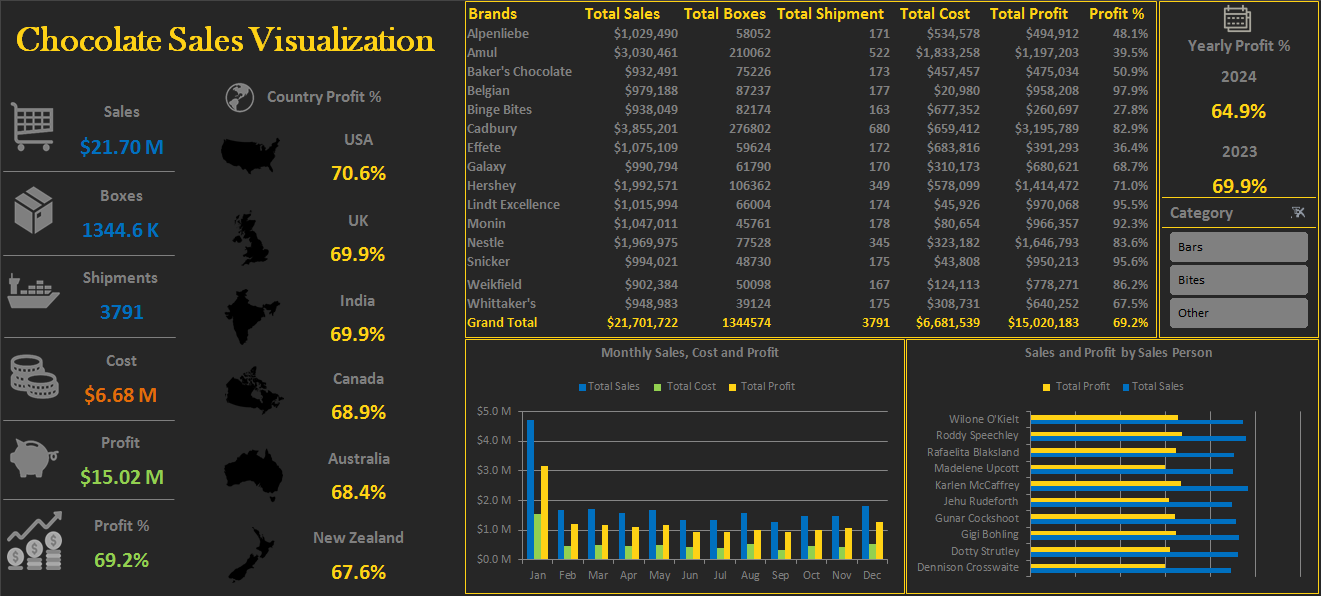

What the dashboard file says about the page in this screenshot:
{"tool":"powerbi","page":{"name":"Chocolate Sales Visualization","canvas":[3300,1800],"ordinal":0},"visuals":[{"type":"shape","box":[2847.2,4,441.4,556.7],"z":0},{"type":"card","title":"Sales","fields":{"Values":["Products.Total Sales"]},"box":[119.3,397.7,385.7,230.6],"z":0,"group":"g7"},{"type":"group","id":"g1","title":"Group 1","box":[655.3,404,445.4,167],"z":0,"group":"g8"},{"type":"textbox","box":[8,67.6,1109.5,147.1],"z":1000},{"type":"group","id":"g2","title":"Group 2","box":[647.6,627,449.3,186.9],"z":1000,"group":"g8"},{"type":"card","title":"Boxes","fields":{"Values":["Sum(Sales.Boxes)"]},"box":[119.3,632.3,385.7,230.6],"z":1000,"group":"g7"},{"type":"shape","box":[8,4,1109.5,286.3],"z":2000},{"type":"card","title":"Shipments","fields":{"Values":["Products.Total Shipment"]},"box":[119.3,866.9,385.7,230.6],"z":2000,"group":"g7"},{"type":"group","id":"g3","title":"Group 3","box":[645,870,445.4,182.9],"z":2000,"group":"g8"},{"type":"tableEx","fields":{"Values":["Products.Brands","Products.Total Sales","Products.Tota Boxes","Products.Total Shipment","Products.Total Cost","Products.Total Profit","Products.Profit %"]},"box":[1121.4,4,1717.9,878.8],"z":3000},{"type":"card","title":"Cost","fields":{"Values":["Products.Total Cost"]},"box":[119.3,1101.5,385.7,226.7],"z":3000,"group":"g7"},{"type":"group","id":"g4","title":"Group 4","box":[643.8,1108.9,445.4,182.9],"z":3000,"group":"g8"},{"type":"actionButton","box":[0,0,100,40],"z":4000},{"type":"card","title":"Profit","fields":{"Values":["Products.Total Profit"]},"box":[119.3,1336.2,385.7,226.7],"z":4000,"group":"g7"},{"type":"group","id":"g5","title":"Group 5","box":[642,1347.9,445.4,175],"z":4000,"group":"g8"},{"type":"clusteredColumnChart","title":"Monthly Sales, Cost and Profit","fields":{"Category":["Sales.Date.Variation.Date Hierarchy.Month"],"Y":["Products.Total Sales","Products.Total Cost","Products.Total Profit"]},"box":[1121.4,886.8,1137.3,906.6],"z":5000},{"type":"card","title":"Profit %","fields":{"Values":["Products.Profit %"]},"box":[119.3,1570.8,385.7,226.7],"z":5000,"group":"g7"},{"type":"group","id":"g6","title":"Group 6","box":[639.2,1578.9,445.4,186.9],"z":5000,"group":"g8"},{"type":"image","box":[0,413.6,206.8,143.2],"z":6000,"group":"g7"},{"type":"image","box":[537.7,416.6,206.8,143.2],"z":6000,"group":"g8"},{"type":"clusteredBarChart","title":"Sales and Profit by Sales Person","fields":{"Category":["Sales.Sales Person"],"Y":["Products.Total Profit","Products.Total Sales"]},"box":[2262.6,886.8,1029.9,906.6],"z":6000},{"type":"slicer","title":"Monthly Sales, Cost and Profit","fields":{"Values":["Products.Category"]},"box":[2843.2,564.7,449.3,318.1],"z":7000},{"type":"image","box":[8,644.2,206.8,143.2],"z":7000,"group":"g7"},{"type":"image","box":[537.7,647.3,206.8,143.2],"z":7000,"group":"g8"},{"type":"textbox","title":"Yearly Profit %","box":[2847.2,87.5,445.4,103.4],"z":8000,"group":"g12"},{"type":"image","box":[545.7,885.8,206.8,143.2],"z":8000,"group":"g8"},{"type":"image","box":[11.9,886.8,206.8,143.2],"z":8000,"group":"g7"},{"type":"textbox","title":"2024","box":[2840.4,185.1,448.2,63.3],"z":9000,"group":"g11"},{"type":"image","box":[8,1125.4,206.8,143.2],"z":9000,"group":"g7"},{"type":"image","box":[537.7,1128.4,206.8,143.2],"z":9000,"group":"g8"},{"type":"textbox","title":"2023","box":[2840.4,380,448.2,63.3],"z":10000,"group":"g10"},{"type":"image","box":[537.7,1339.2,206.8,143.2],"z":10000,"group":"g8"},{"type":"image","box":[0,1360,206.8,143.2],"z":10000,"group":"g7"},{"type":"card","fields":{"Values":["Products.Profit %"]},"box":[2913.5,433.6,302.1,121.8],"z":11000,"group":"g10"},{"type":"image","box":[0,1598.6,206.8,143.2],"z":11000,"group":"g7"},{"type":"image","box":[537.7,1601.6,206.8,143.2],"z":11000,"group":"g8"},{"type":"card","fields":{"Values":["Products.Profit %"]},"box":[2913.5,233.8,302.1,121.8],"z":12000,"group":"g11"},{"type":"shape","box":[0,518.4,477.2,171],"z":12000,"group":"g7"},{"type":"textbox","title":"Country Profit %","box":[707.8,286.3,405.6,103.4],"z":13000,"group":"g9"},{"type":"shape","box":[0,764.9,477.2,151.1],"z":13000,"group":"g7"},{"type":"group","id":"g7","title":"Group 7","box":[0,397.7,505,1399.7],"z":14000},{"type":"shape","box":[0,1003.5,477.2,151.1],"z":14000,"group":"g7"},{"type":"group","id":"g8","title":"Group 8","box":[537.7,404,563,1361.8],"z":15000},{"type":"shape","box":[0,1242.1,477.2,151.1],"z":15000,"group":"g7"},{"type":"image","box":[544.8,286.3,175,103.4],"z":15001,"group":"g9"},{"type":"group","id":"g9","title":"Group 9","box":[544.8,286.3,568.6,103.4],"z":15002},{"type":"image","box":[2986.4,0,163,123.3],"z":15003,"group":"g12"},{"type":"group","id":"g10","title":"Group 10","box":[2840.4,380,448.2,175.4],"z":15004,"group":"g13"},{"type":"group","id":"g11","title":"Group 11","box":[2840.4,185.1,448.2,170.5],"z":15005,"group":"g13"},{"type":"group","id":"g12","title":"Group 12","box":[2847.2,0,445.4,190.9],"z":15006,"group":"g13"},{"type":"group","id":"g13","title":"Group 13","box":[2840.4,0,452.1,555.4],"z":15007},{"type":"shape","box":[0,1472.7,477.2,151.1],"z":16000,"group":"g7"},{"type":"textbox","title":"USA","box":[655.3,404,445.4,63.6],"z":19001,"group":"g1"},{"type":"textbox","title":"India","box":[645,870,445.4,63.6],"z":19002,"group":"g3"},{"type":"textbox","title":"UK","box":[647.6,627,449.3,63.6],"z":19003,"group":"g2"},{"type":"textbox","title":"Canada","box":[643.8,1108.9,445.4,63.6],"z":19004,"group":"g4"},{"type":"textbox","title":"Australia","box":[642,1347.9,445.4,63.6],"z":19005,"group":"g5"},{"type":"textbox","title":"New Zealand","box":[639.2,1578.9,445.4,63.6],"z":19006,"group":"g6"},{"type":"card","fields":{"Values":["Products.Profit %"]},"box":[711,447.7,302.2,123.3],"z":19007,"group":"g1"},{"type":"card","fields":{"Values":["Products.Profit %"]},"box":[711.2,694.6,302.2,119.3],"z":19008,"group":"g2"},{"type":"card","fields":{"Values":["Products.Profit %"]},"box":[716.6,933.6,302.2,119.3],"z":19009,"group":"g3"},{"type":"card","fields":{"Values":["Products.Profit %"]},"box":[715.4,1172.5,302.2,119.3],"z":19010,"group":"g4"},{"type":"card","fields":{"Values":["Products.Profit %"]},"box":[713.6,1399.6,302.2,123.3],"z":19011,"group":"g5"},{"type":"card","fields":{"Values":["Products.Profit %"]},"box":[710.8,1642.5,302.2,123.3],"z":19012,"group":"g6"}]}

Visuals, with their boxes on the page's 3300x1800 design canvas (x1, y1, x2, y2). These are canvas units, not pixel positions in the 1321x596 screenshot, which may show the page scaled, cropped or inside an application window:
shape: box(2847, 4, 3289, 561)
"Sales" card: box(119, 398, 505, 628)
"Group 1" group: box(655, 404, 1101, 571)
textbox: box(8, 68, 1118, 215)
"Group 2" group: box(648, 627, 1097, 814)
"Boxes" card: box(119, 632, 505, 863)
shape: box(8, 4, 1118, 290)
"Shipments" card: box(119, 867, 505, 1098)
"Group 3" group: box(645, 870, 1090, 1053)
tableEx - Products.Brands x Products.Total Sales: box(1121, 4, 2839, 883)
"Cost" card: box(119, 1102, 505, 1328)
"Group 4" group: box(644, 1109, 1089, 1292)
actionButton: box(0, 0, 100, 40)
"Profit" card: box(119, 1336, 505, 1563)
"Group 5" group: box(642, 1348, 1087, 1523)
"Monthly Sales, Cost and Profit" clusteredColumnChart: box(1121, 887, 2259, 1793)
"Profit %" card: box(119, 1571, 505, 1798)
"Group 6" group: box(639, 1579, 1085, 1766)
image: box(0, 414, 207, 557)
image: box(538, 417, 744, 560)
"Sales and Profit by Sales Person" clusteredBarChart: box(2263, 887, 3292, 1793)
"Monthly Sales, Cost and Profit" slicer: box(2843, 565, 3292, 883)
image: box(8, 644, 215, 787)
image: box(538, 647, 744, 790)
"Yearly Profit %" textbox: box(2847, 88, 3293, 191)
image: box(546, 886, 752, 1029)
image: box(12, 887, 219, 1030)
"2024" textbox: box(2840, 185, 3289, 248)
image: box(8, 1125, 215, 1269)
image: box(538, 1128, 744, 1272)
"2023" textbox: box(2840, 380, 3289, 443)
image: box(538, 1339, 744, 1482)
image: box(0, 1360, 207, 1503)
card - Products.Profit %: box(2914, 434, 3216, 555)
image: box(0, 1599, 207, 1742)
image: box(538, 1602, 744, 1745)
card - Products.Profit %: box(2914, 234, 3216, 356)
shape: box(0, 518, 477, 689)
"Country Profit %" textbox: box(708, 286, 1113, 390)
shape: box(0, 765, 477, 916)
"Group 7" group: box(0, 398, 505, 1797)
shape: box(0, 1004, 477, 1155)
"Group 8" group: box(538, 404, 1101, 1766)
shape: box(0, 1242, 477, 1393)
image: box(545, 286, 720, 390)
"Group 9" group: box(545, 286, 1113, 390)
image: box(2986, 0, 3149, 123)
"Group 10" group: box(2840, 380, 3289, 555)
"Group 11" group: box(2840, 185, 3289, 356)
"Group 12" group: box(2847, 0, 3293, 191)
"Group 13" group: box(2840, 0, 3292, 555)
shape: box(0, 1473, 477, 1624)
"USA" textbox: box(655, 404, 1101, 468)
"India" textbox: box(645, 870, 1090, 934)
"UK" textbox: box(648, 627, 1097, 691)
"Canada" textbox: box(644, 1109, 1089, 1172)
"Australia" textbox: box(642, 1348, 1087, 1412)
"New Zealand" textbox: box(639, 1579, 1085, 1642)
card - Products.Profit %: box(711, 448, 1013, 571)
card - Products.Profit %: box(711, 695, 1013, 814)
card - Products.Profit %: box(717, 934, 1019, 1053)
card - Products.Profit %: box(715, 1172, 1018, 1292)
card - Products.Profit %: box(714, 1400, 1016, 1523)
card - Products.Profit %: box(711, 1642, 1013, 1766)
